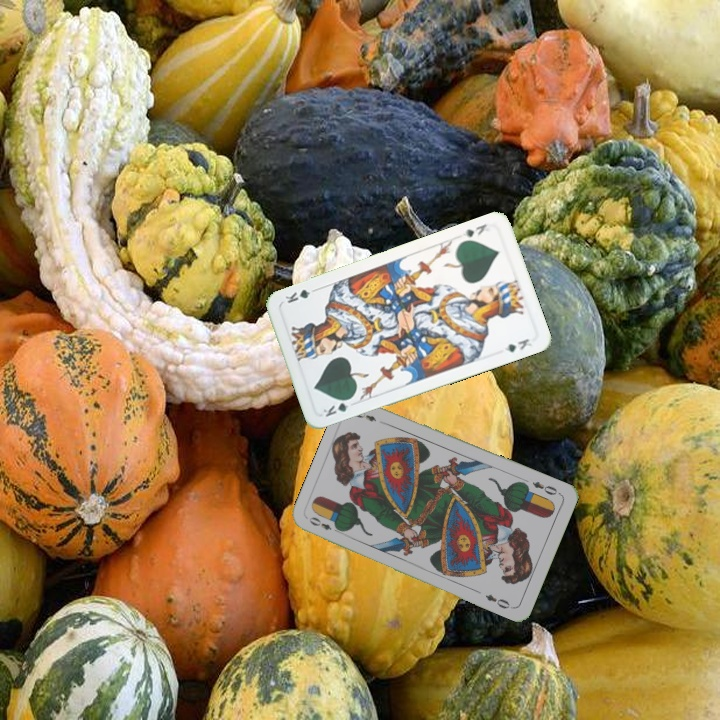EO: (305, 513, 343, 536), (528, 477, 563, 498)
GK: (319, 393, 356, 420), (459, 220, 489, 240)
